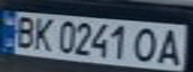0: (54, 18, 78, 55)
1: (106, 22, 130, 61)
2: (72, 19, 93, 57)
4: (90, 20, 112, 58)
A: (154, 26, 187, 66)
B: (9, 14, 39, 50)
K: (30, 16, 57, 52)
O: (130, 25, 163, 63)
